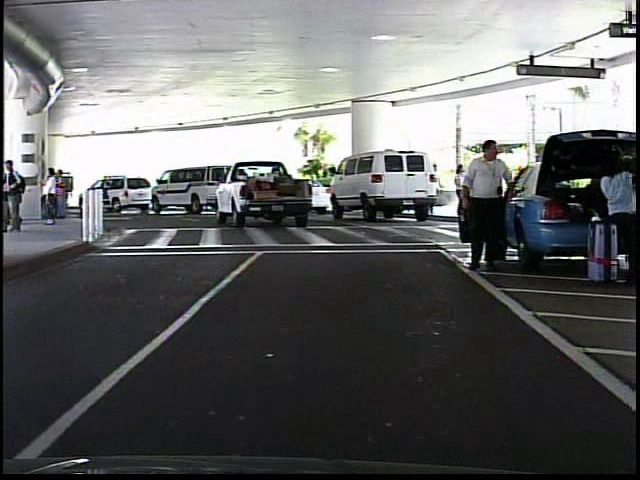person: (449, 136, 508, 276), (590, 147, 640, 280), (452, 160, 472, 217)
